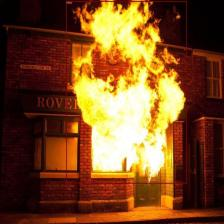fire: (66, 1, 187, 183)
